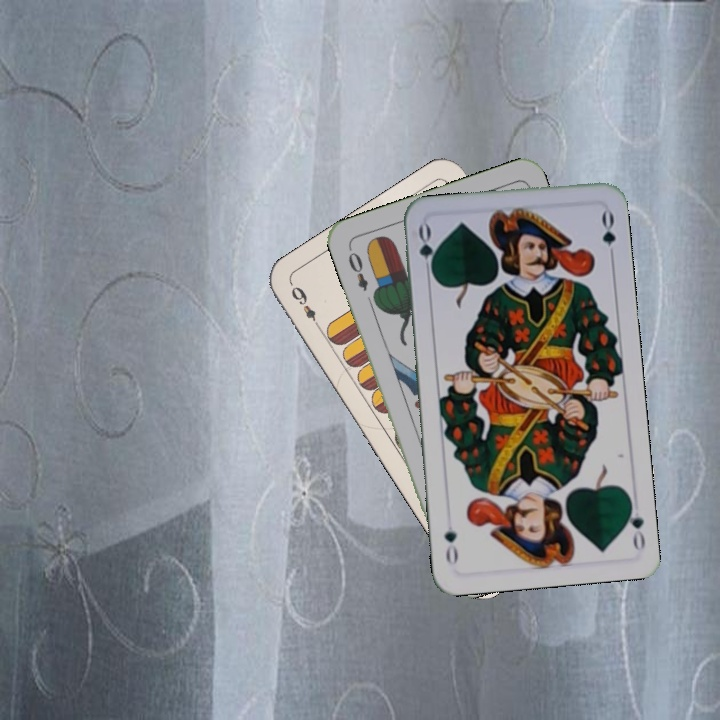E9: (287, 282, 324, 333)
EO: (344, 243, 371, 294)
GO: (621, 494, 648, 552), (414, 221, 438, 280)
